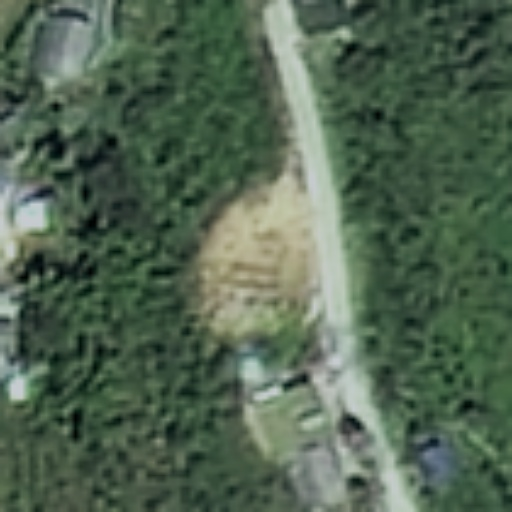landslide: (198, 168, 329, 342)
